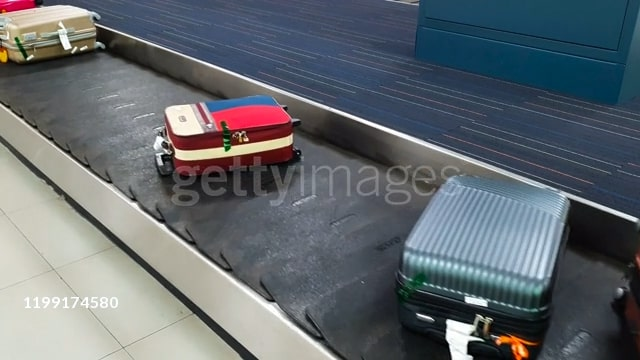baggage: (380, 167, 572, 355), (156, 92, 310, 182), (1, 4, 114, 71)
